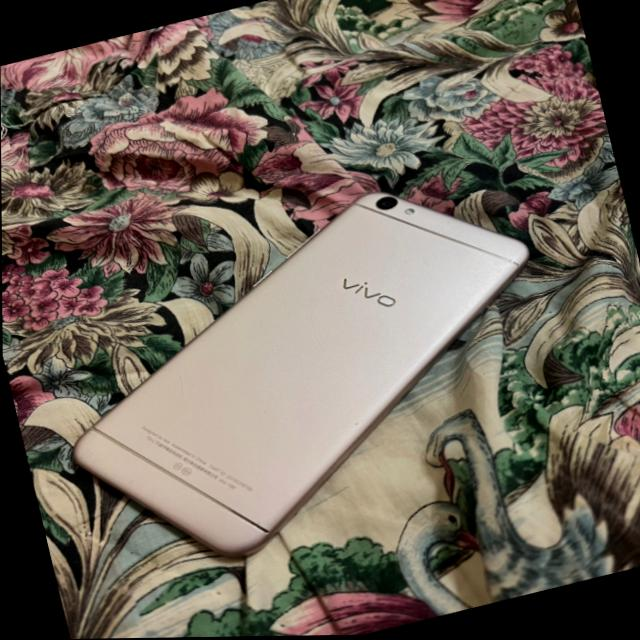Smartphone: (71, 193, 528, 557)
